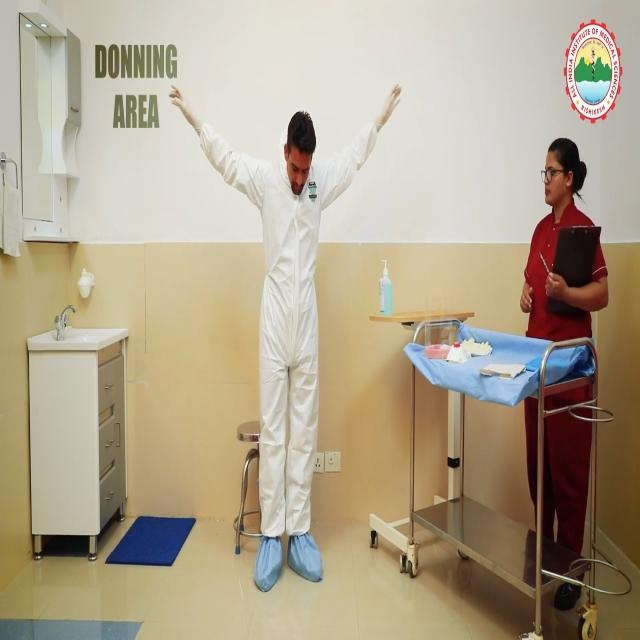Gloves: (164, 85, 210, 147), (370, 70, 404, 141)
